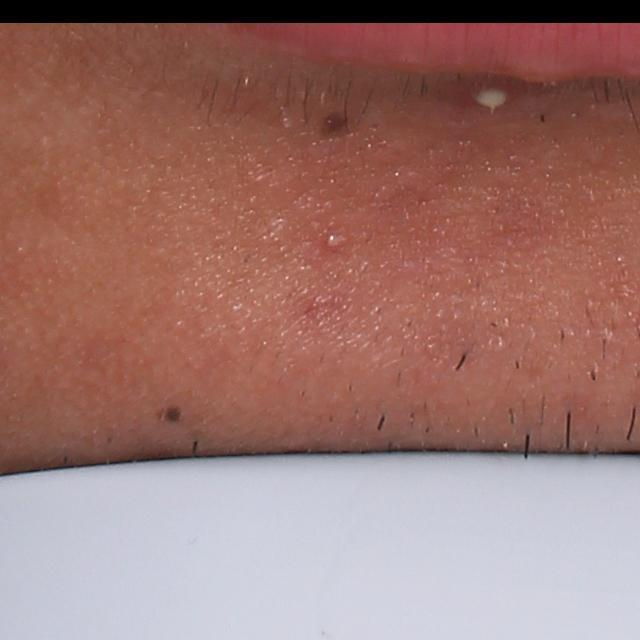nevus: (160, 397, 187, 426)
pustule: (474, 76, 519, 116), (320, 226, 348, 253)
